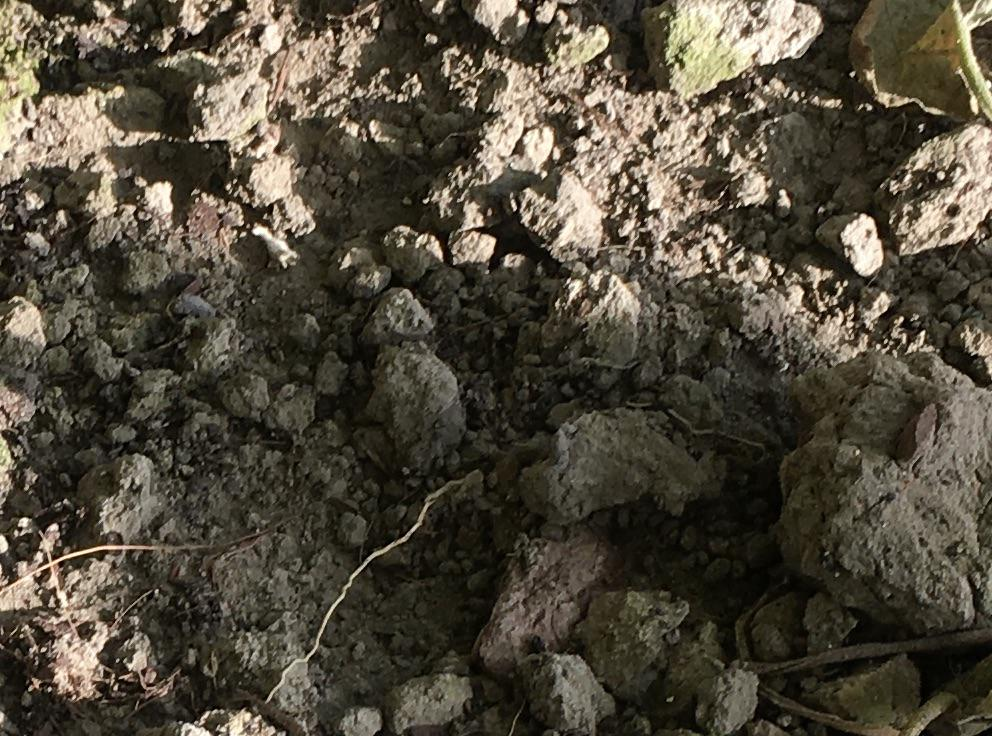block: (783, 348, 992, 632), (519, 397, 737, 529), (585, 582, 764, 732), (372, 338, 468, 470), (513, 645, 613, 734)
